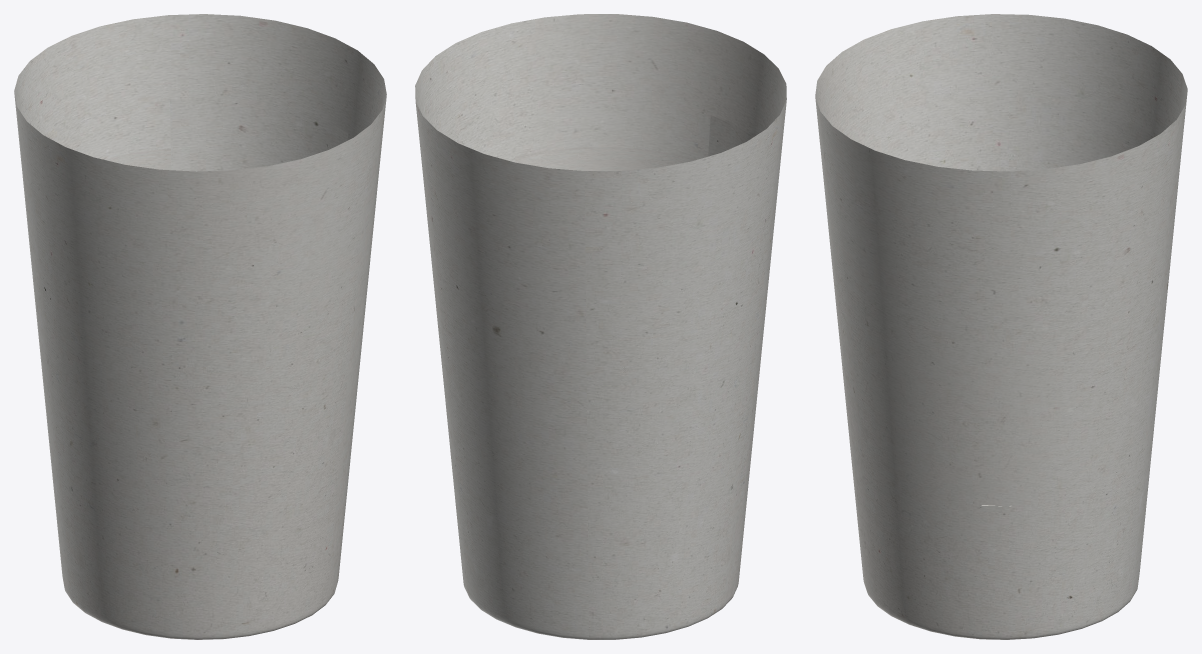
File: cup1.gltf
3 renders of one model, left to right at view 1: azimuth 30°, elevation 25°; view 2: azimuth 150°, elevation 25°; view 3: azimuth 270°, elevation 25°, orthographic.
Parts seen in each view (by area): view 1: cup1; view 2: cup1; view 3: cup1.
Part boxes in pixels (x1=…): cup1: x1=14, y1=14, x2=386, y2=639; cup1: x1=415, y1=14, x2=786, y2=639; cup1: x1=815, y1=14, x2=1187, y2=639.
Bounding box in the file's own units: 9.04 × 13.13 × 9.04.
1 material, 1 textured.
